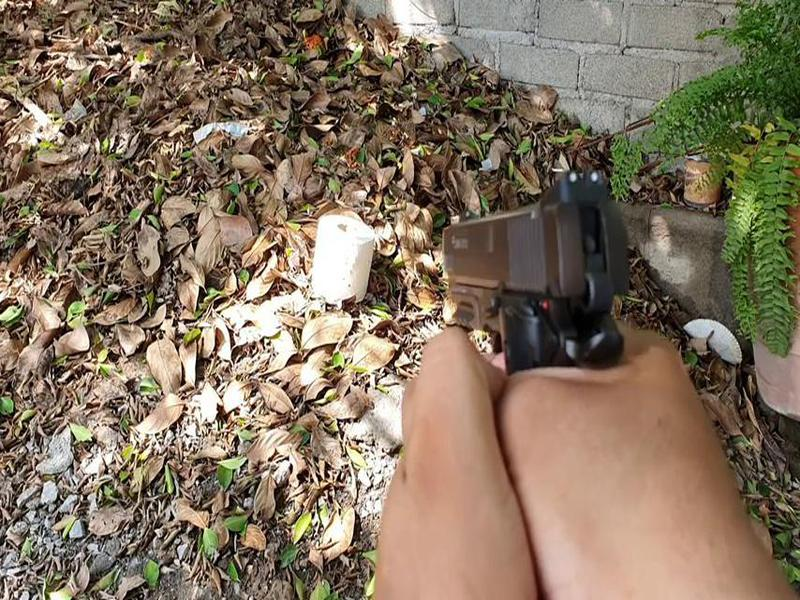Pistola: (419, 144, 663, 425)
